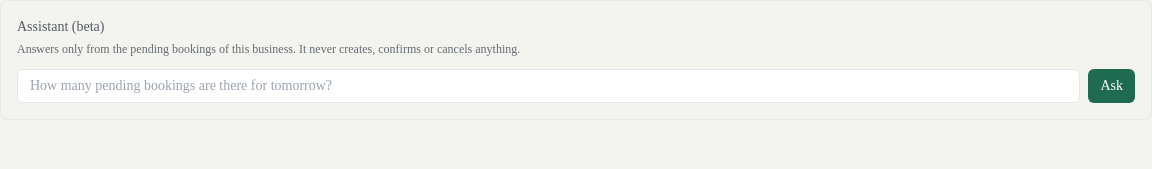
Test: AiAssistBox › shows a loading state while asking, then a clear notice when the assistant is not configured (503)
Later steps or results of the test are not shown.
Step 1. Type "How many are pending tomorrow?" into the field named "Question for the assistant" → (549,86), box 17,69 -> 1080,103
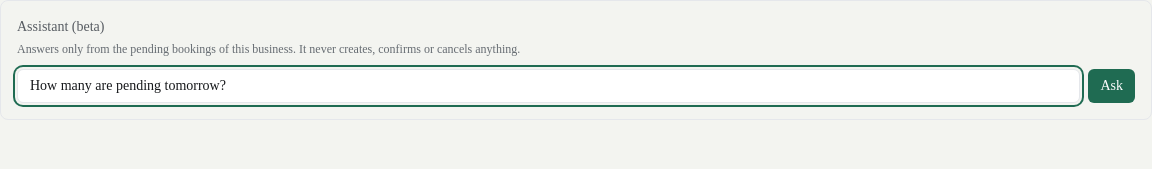
Step 2. Click the button "Ask" → (1112,86), box 1088,69 -> 1135,103
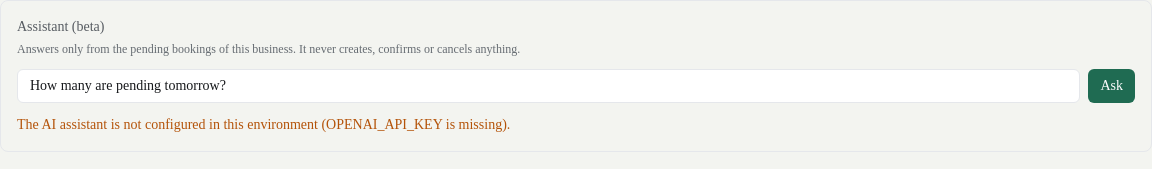
Result: the text "not configured in this environment" is shown at 17,117 -> 510,132
